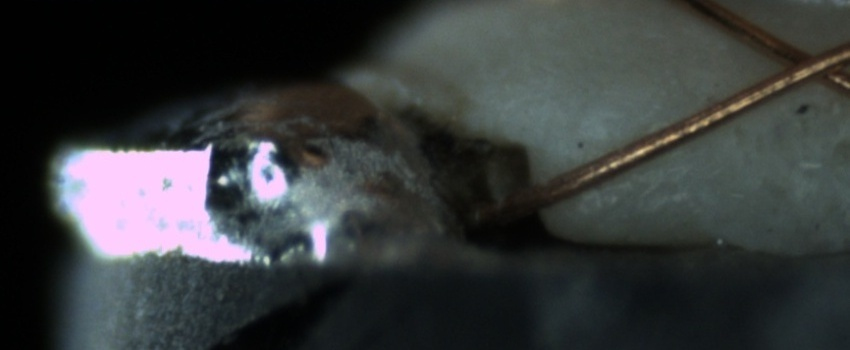CL: (760, 29, 850, 95)
